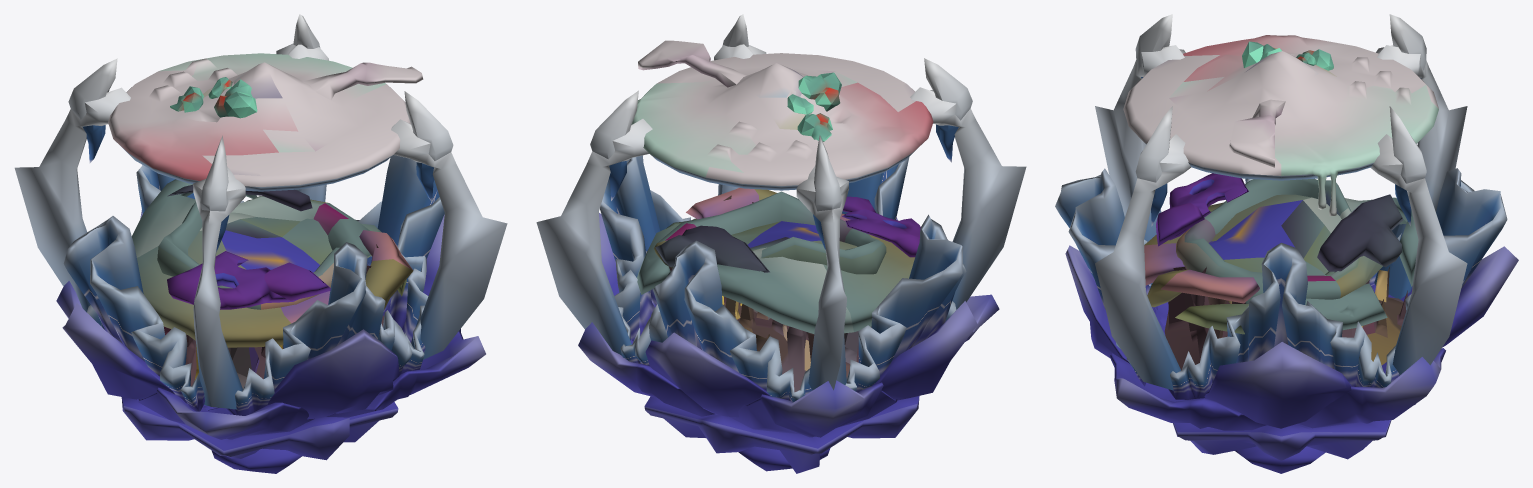
Rendered from cosmology_01.gltf.
The picture shows the model from 3 angles, left to right: view 1: azimuth 30°, elevation 25°; view 2: azimuth 150°, elevation 25°; view 3: azimuth 270°, elevation 25°; orthographic projection. The views are drawn at different scales.
Parts seen in each view (by area): view 1: pCube92, polySurface582, mid_base, polySurface616, polySurface614, polySurface615, polySurface593, polySurface584, mid_mountains, polySurface589, polySurface592, polySurface596 (+5 smaller); view 2: pCube92, polySurface582, mid_base, polySurface587, polySurface615, polySurface584, polySurface614, mid_mountains, polySurface588, polySurface585, polySurface589, dark_base (+6 smaller); view 3: pCube92, mid_base, polySurface582, polySurface616, polySurface587, polySurface613, mid_mountains, polySurface614, polySurface584, polySurface615, dark_base, polySurface583 (+5 smaller).
Part boxes in pixels (left/top/right/bottom): pCube92: left=108, top=53, right=423, bottom=191; polySurface582: left=63, top=155, right=444, bottom=415; mid_base: left=132, top=179, right=413, bottom=347; polySurface616: left=391, top=91, right=507, bottom=359; polySurface614: left=14, top=58, right=130, bottom=312; polySurface615: left=193, top=135, right=245, bottom=409; polySurface593: left=267, top=329, right=399, bottom=419; polySurface584: left=121, top=397, right=398, bottom=460; mid_mountains: left=157, top=196, right=370, bottom=309; polySurface589: left=62, top=303, right=219, bottom=410; polySurface592: left=137, top=387, right=314, bottom=439; polySurface596: left=326, top=329, right=485, bottom=417; pCube92: left=631, top=40, right=933, bottom=190; polySurface582: left=600, top=155, right=966, bottom=402; mid_base: left=637, top=187, right=920, bottom=333; polySurface587: left=536, top=90, right=652, bottom=355; polySurface615: left=910, top=58, right=1026, bottom=309; polySurface584: left=644, top=396, right=919, bottom=473; polySurface614: left=796, top=135, right=848, bottom=390; mid_mountains: left=654, top=191, right=886, bottom=274; polySurface588: left=730, top=380, right=897, bottom=437; polySurface585: left=645, top=332, right=769, bottom=417; polySurface589: left=873, top=301, right=977, bottom=400; dark_base: left=669, top=195, right=871, bottom=392; pCube92: left=1123, top=35, right=1438, bottom=215; mid_base: left=1144, top=173, right=1418, bottom=334; polySurface582: left=1055, top=168, right=1507, bottom=399; polySurface616: left=1095, top=106, right=1191, bottom=390; polySurface587: left=1370, top=106, right=1467, bottom=375; polySurface613: left=1204, top=342, right=1351, bottom=428; mid_mountains: left=1176, top=178, right=1382, bottom=303; polySurface614: left=1374, top=14, right=1467, bottom=299; polySurface584: left=1173, top=404, right=1415, bottom=460; polySurface615: left=1095, top=14, right=1185, bottom=285; dark_base: left=1164, top=266, right=1407, bottom=370; polySurface583: left=1298, top=348, right=1445, bottom=428.
Bounding box in the file's own units: 186 × 183 × 184.
1 material, 1 textured.
